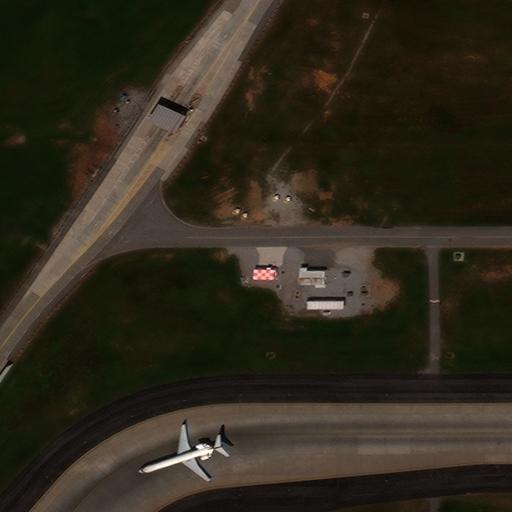Medium Civil Transport: (139, 424, 227, 482)
